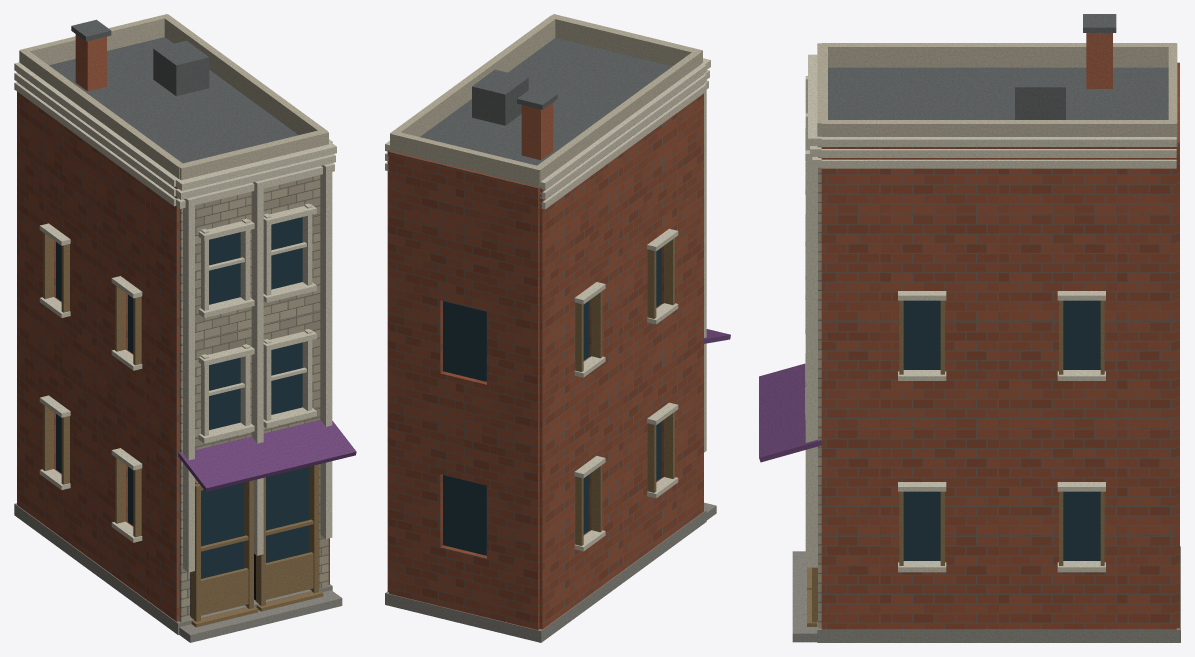
The model's file is BUSS9_lod2.glb.
3 views of the same model, side by side, from view 1: azimuth 30°, elevation 25°; view 2: azimuth 150°, elevation 25°; view 3: azimuth 270°, elevation 25° (orthographic). The views are drawn at different scales.
Parts seen in each view (by area): view 1: BUSS9_LOD2; view 2: BUSS9_LOD2; view 3: BUSS9_LOD2.
Part boxes in pixels (x1,y1,x2,y2): BUSS9_LOD2: (14,14,356,642); BUSS9_LOD2: (385,14,730,642); BUSS9_LOD2: (759,14,1180,642).
Bounding box in the file's own units: 3.71 × 10.45 × 7.13.
11 materials, 9 textured.
